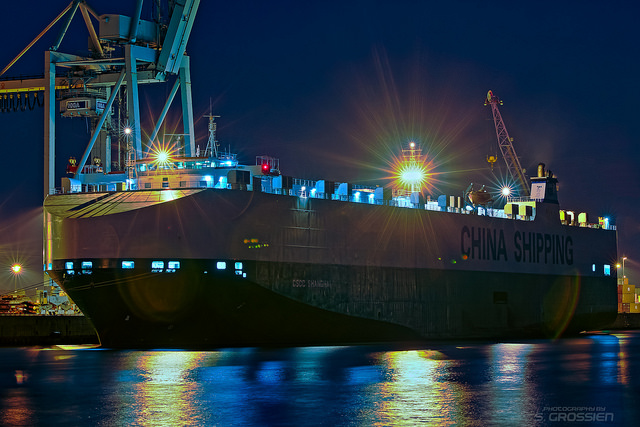PCC: (45, 128, 618, 348)
